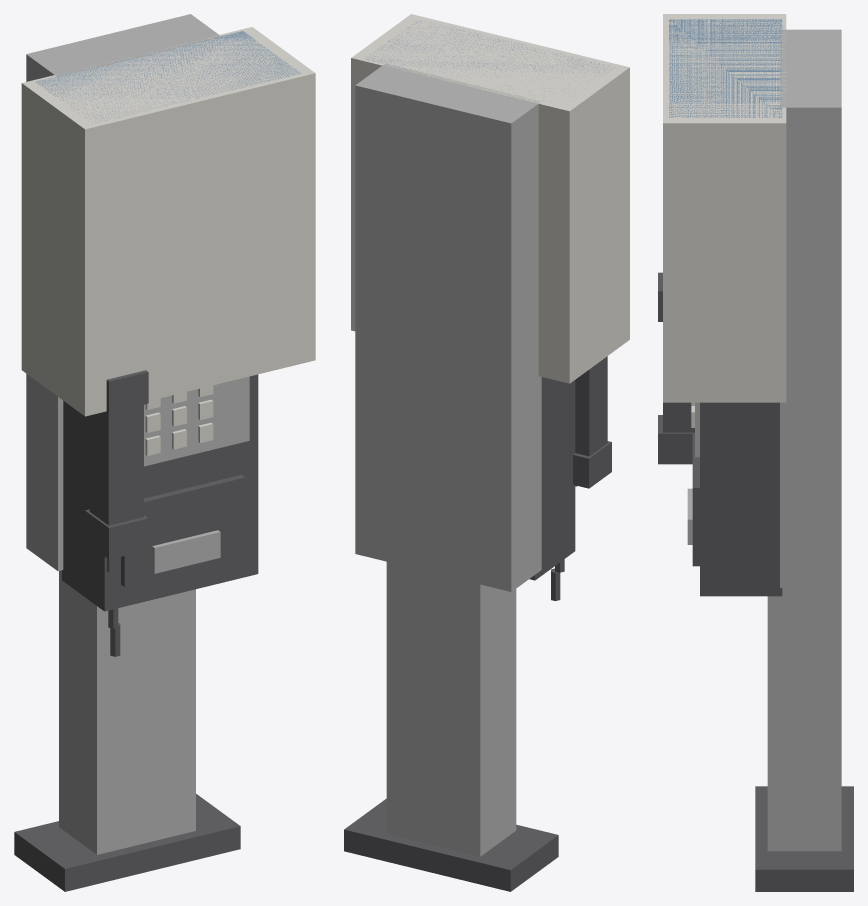
The model's file is payphone.glb.
The picture shows the model from 3 angles, left to right: view 1: azimuth 30°, elevation 25°; view 2: azimuth 150°, elevation 25°; view 3: azimuth 270°, elevation 25°; orthographic projection. The views are drawn at different scales.
Visible parts, largest first — view 1: NC_payphone; view 2: NC_payphone; view 3: NC_payphone.
Part boxes in pixels (left/top/right/bottom): NC_payphone: left=14, top=14, right=315, bottom=891; NC_payphone: left=344, top=14, right=629, bottom=891; NC_payphone: left=658, top=14, right=853, bottom=891.
Bounding box in the file's own units: 0.42 × 1.4 × 0.318.
